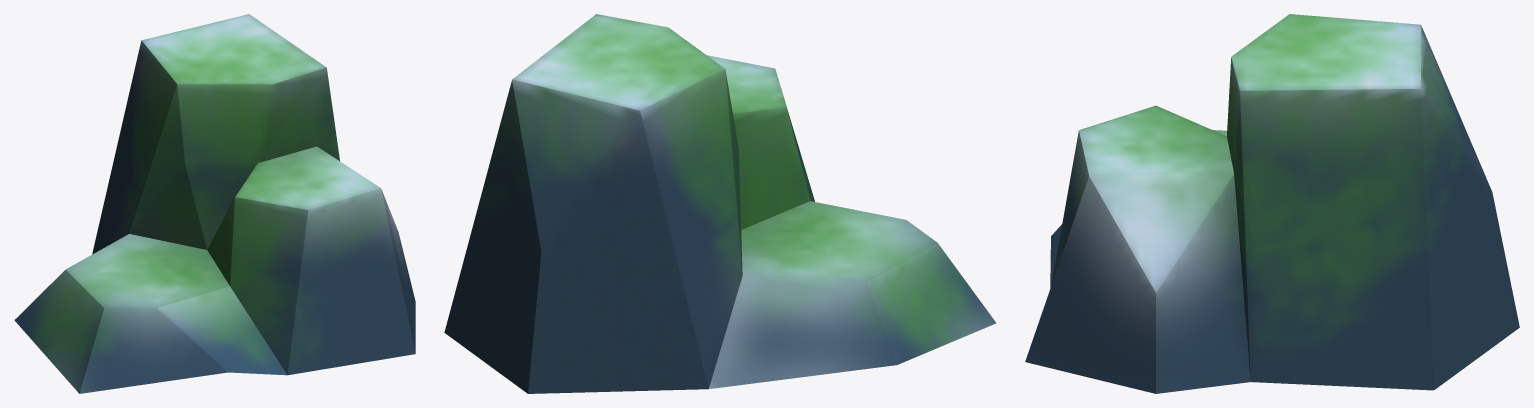
File: rocks.fbx
The picture shows the model from 3 angles, left to right: view 1: azimuth 30°, elevation 25°; view 2: azimuth 150°, elevation 25°; view 3: azimuth 270°, elevation 25°; orthographic projection. The views are drawn at different scales.
Visible parts, largest first — view 1: rocks; view 2: rocks; view 3: rocks.
Part boxes in pixels (left/top/right/bottom): rocks: left=14, top=14, right=415, bottom=393; rocks: left=444, top=14, right=996, bottom=393; rocks: left=1025, top=14, right=1519, bottom=393.
Size of the model in its own units: 0.6531 by 0.4 by 0.6623.
